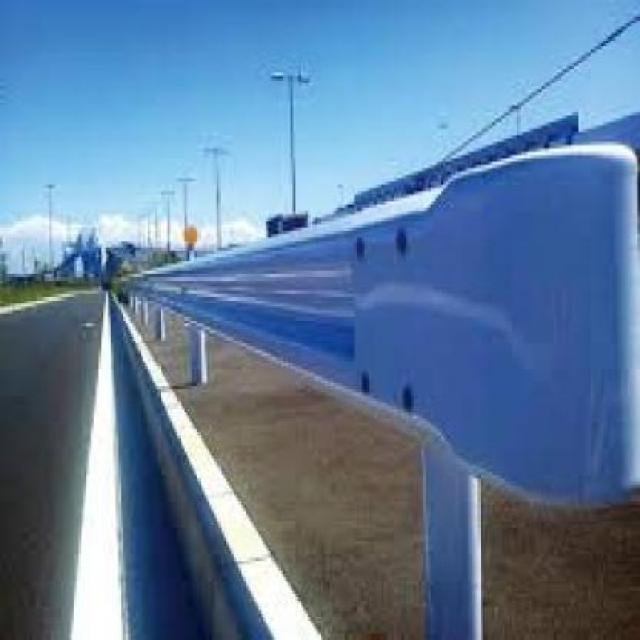Guard rail: (126, 126, 640, 612)
